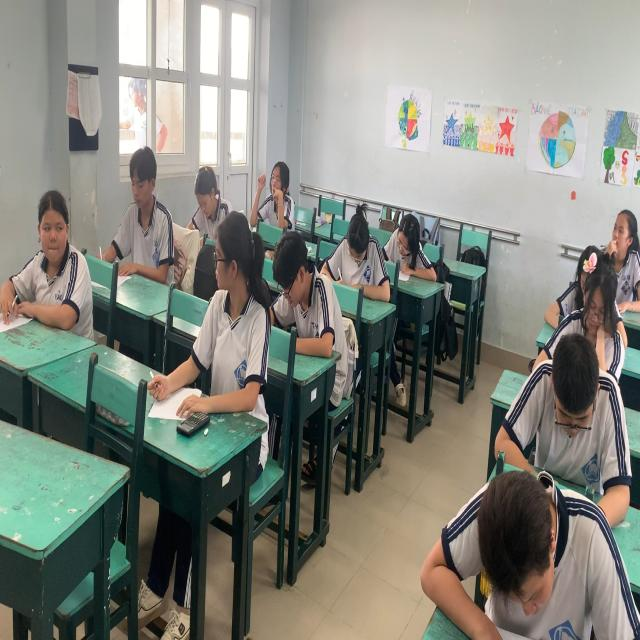cheating: (21, 184, 103, 344), (208, 205, 272, 406)
not_cheating: (268, 219, 332, 337), (130, 146, 175, 278), (332, 202, 387, 298), (183, 164, 239, 236), (262, 154, 299, 230), (394, 216, 424, 282)
